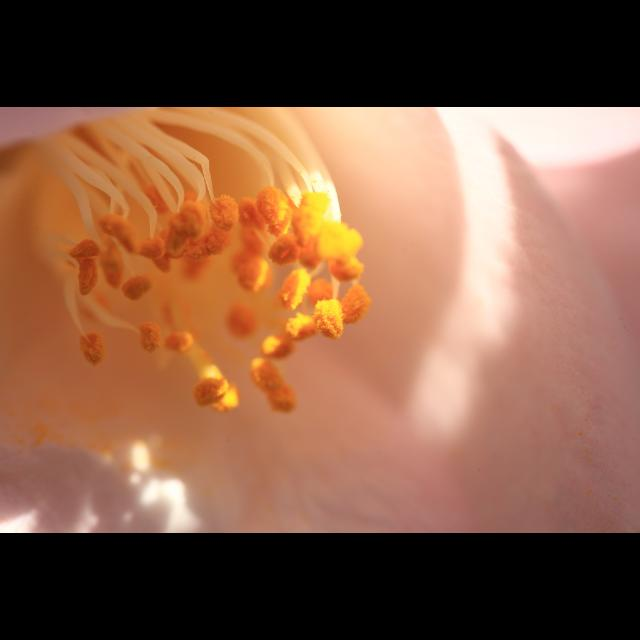Flower: (0, 107, 638, 533)
